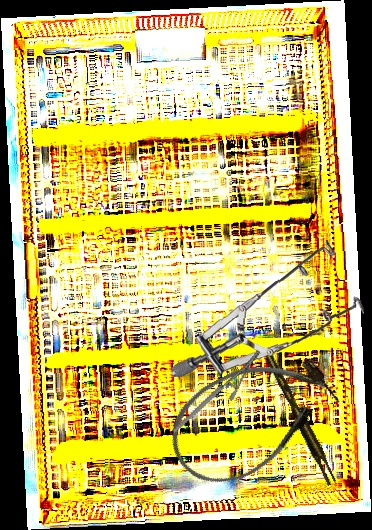Cannula: (153, 333, 351, 502)
Needle Holder: (157, 349, 276, 433)
Speculum: (170, 232, 368, 387)
Tissue Forceps: (265, 352, 338, 488)
